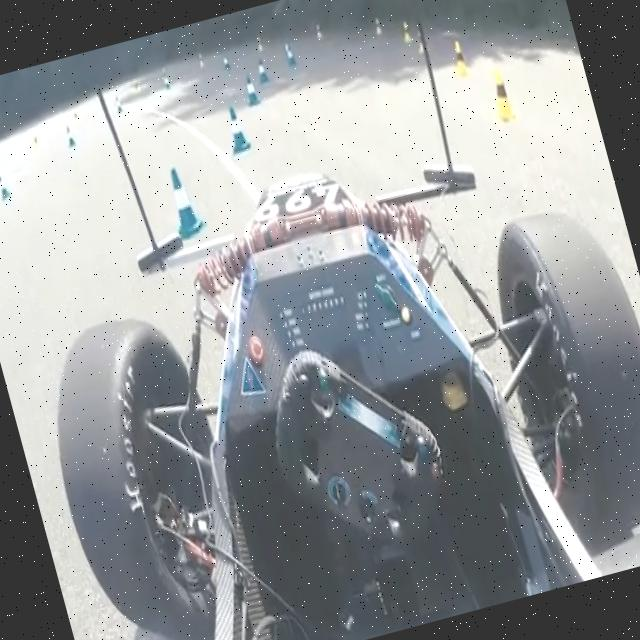blue_cone: (162, 163, 209, 241), (220, 102, 252, 155), (240, 72, 262, 107), (253, 56, 271, 84), (0, 172, 12, 201), (284, 44, 298, 68), (63, 124, 77, 148)
yellow_cone: (484, 70, 517, 124), (447, 38, 473, 78)
